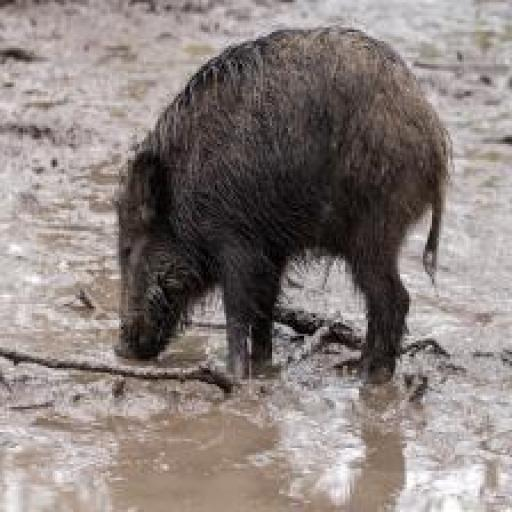Pig: (100, 18, 460, 420)
